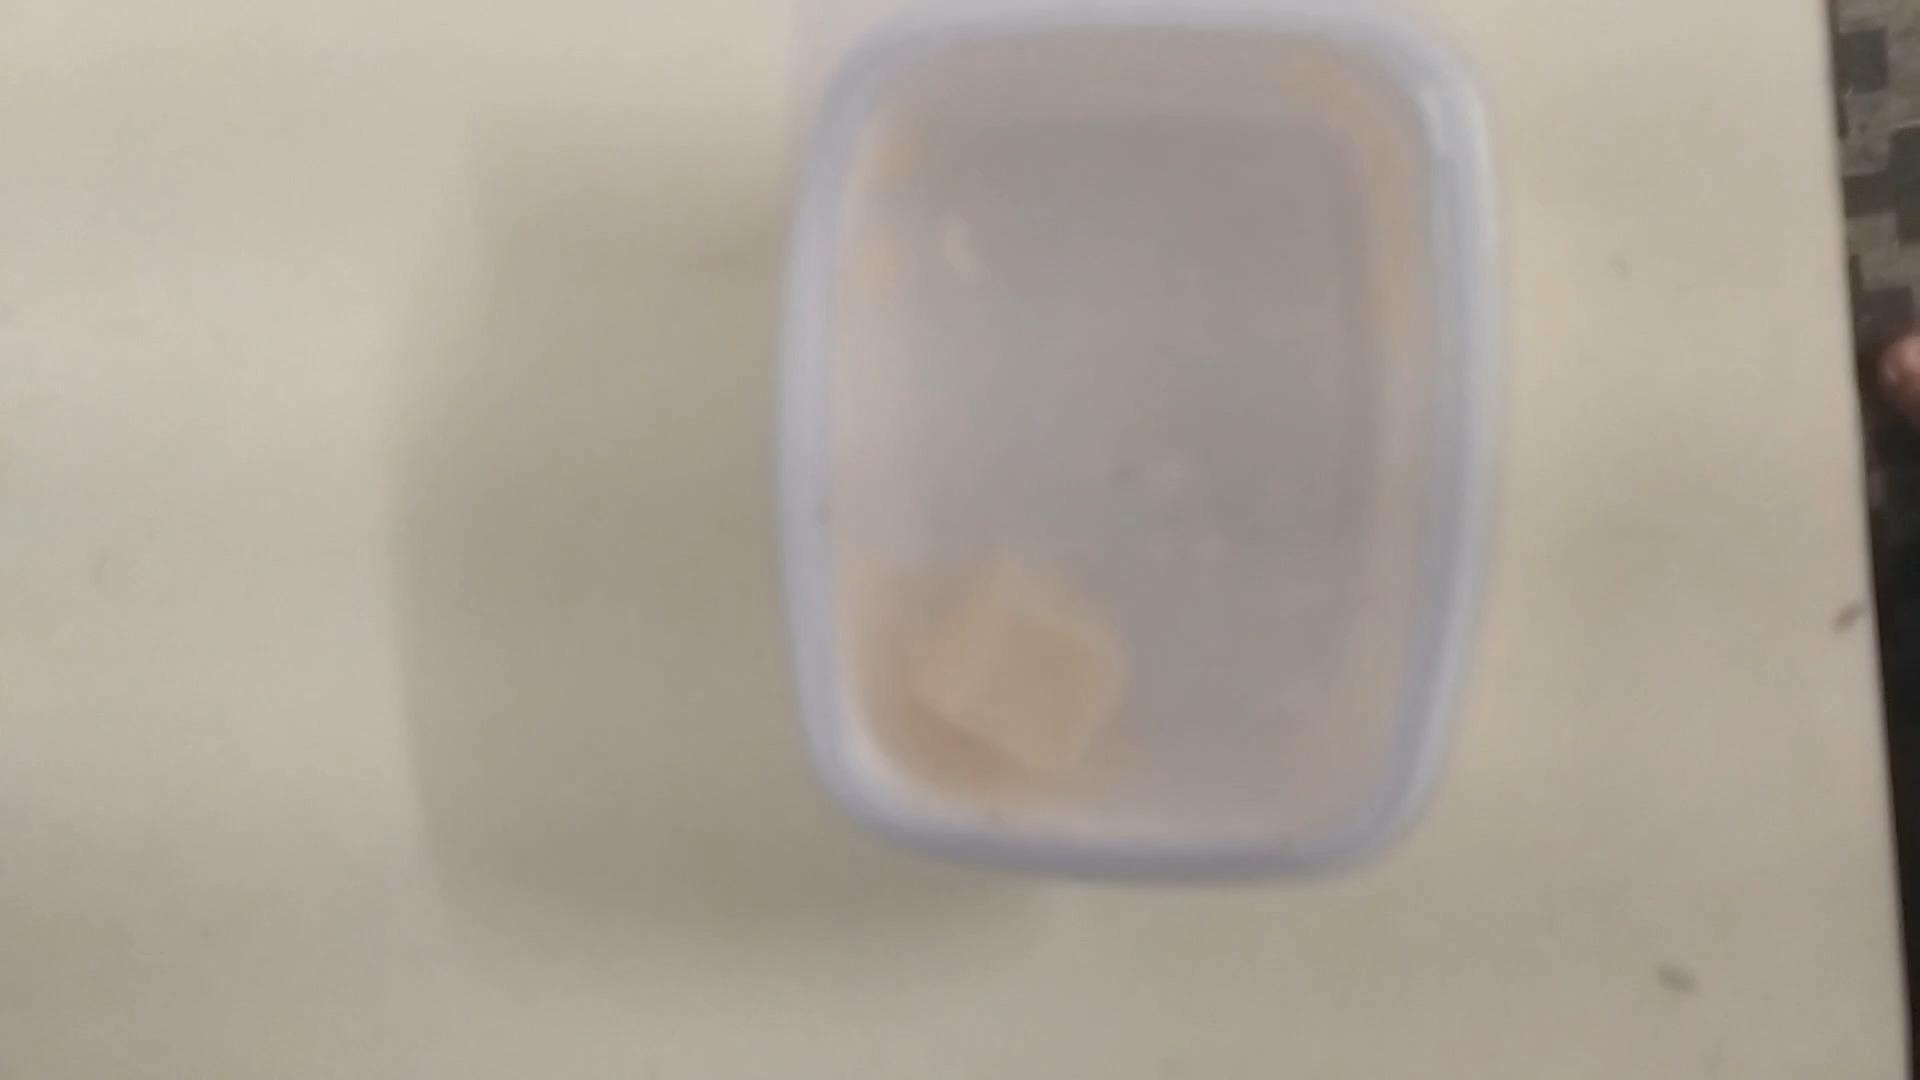butter: (777, 0, 1481, 887)
